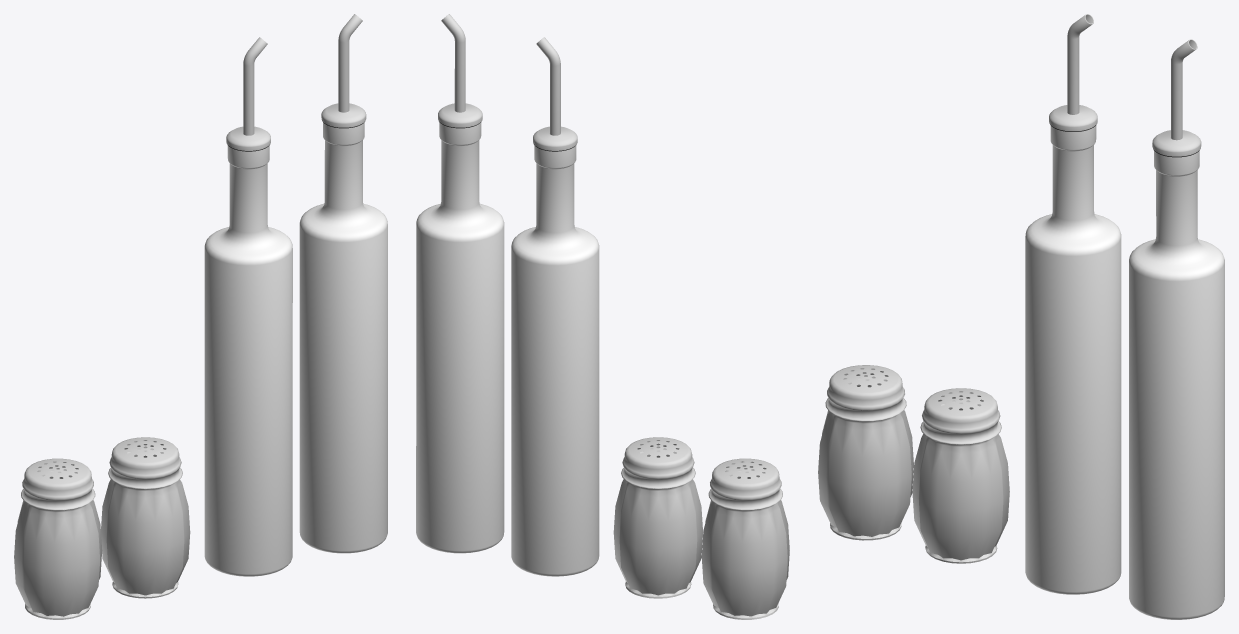
File: PaperOil.fbx
3 views of the same model, side by side, from view 1: azimuth 30°, elevation 25°; view 2: azimuth 150°, elevation 25°; view 3: azimuth 330°, elevation 25° (orthographic). The views are drawn at different scales.
Parts seen in each view (by area): view 1: Oil1, Oil, Peeper, Salt; view 2: Oil, Oil1, Peeper, Salt; view 3: Oil1, Oil, Peeper, Salt.
Part boxes in pixels (x1=…): Oil1: x1=204, y1=37, x2=292, y2=576; Oil: x1=299, y1=14, x2=387, y2=553; Peeper: x1=101, y1=437, x2=190, y2=598; Salt: x1=14, y1=458, x2=102, y2=619; Oil: x1=416, y1=14, x2=504, y2=553; Oil1: x1=511, y1=37, x2=599, y2=576; Peeper: x1=613, y1=437, x2=702, y2=598; Salt: x1=701, y1=458, x2=789, y2=619; Oil1: x1=1025, y1=14, x2=1121, y2=594; Oil: x1=1129, y1=39, x2=1224, y2=619; Peeper: x1=912, y1=388, x2=1009, y2=563; Salt: x1=818, y1=365, x2=913, y2=540.
Size of the model in its own units: 44.35 by 60.74 by 9.49.
Materials: 5 (5 with a texture image).
